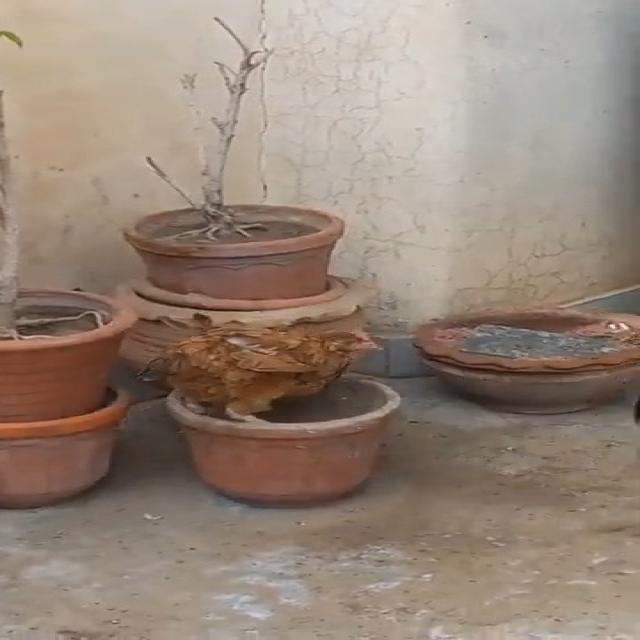stand bath: (138, 322, 388, 432)
